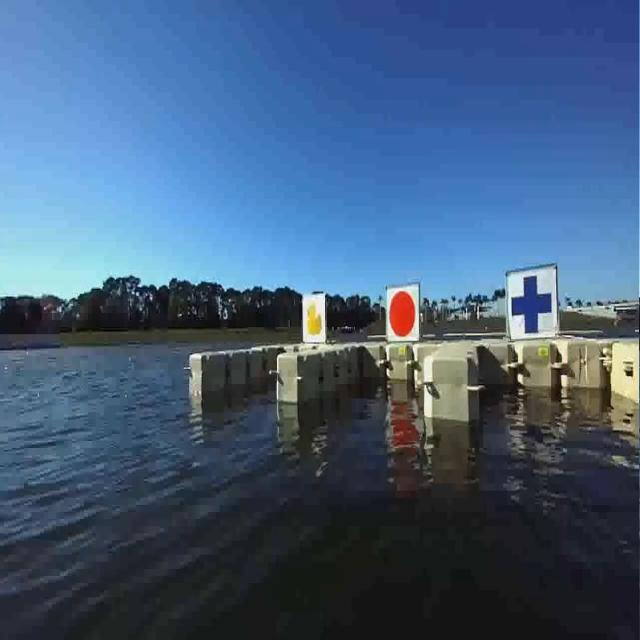blue-cross: (508, 266, 556, 338)
red-dot: (385, 286, 420, 341)
yellow-duck: (301, 294, 328, 344)
